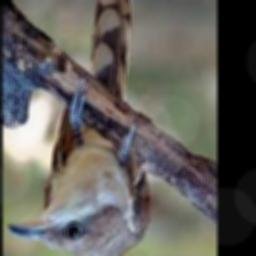Cuckoo: (6, 0, 152, 256)
